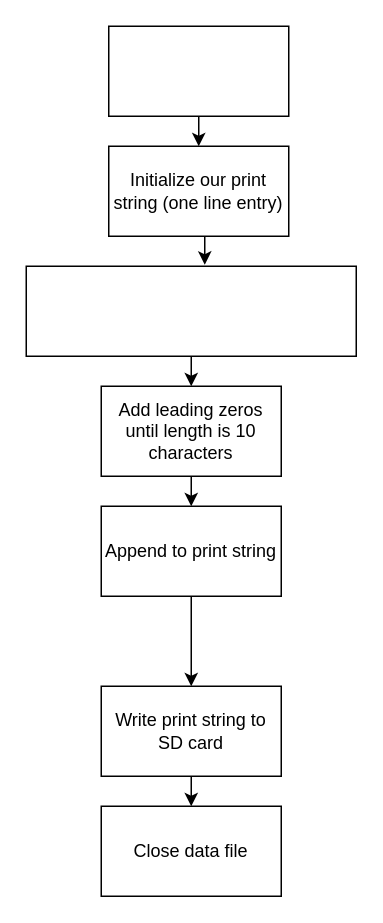
The diagram is 383 pixels wide and 923 high, and some of its shapes have lost their labels. The centre of each missing label's shape, as x and y in pixels:
For Each Value (voltage, current, time): the point at 190,310
Open Data file on SD card: the point at 198,70
